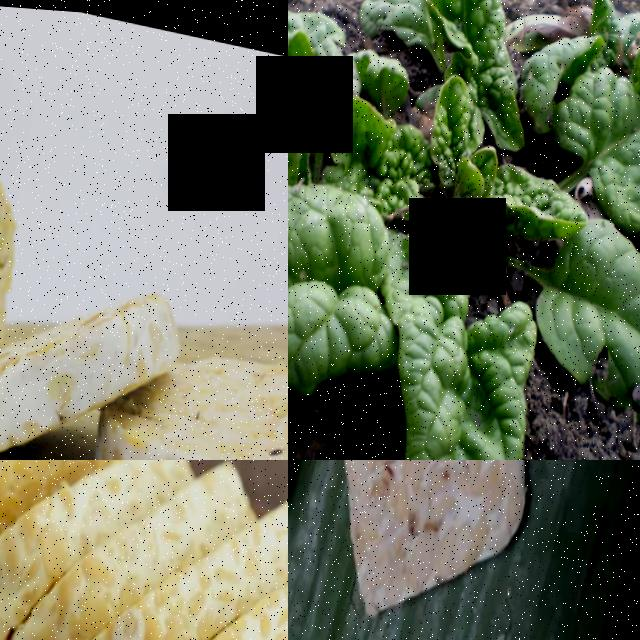spinach: (384, 284, 549, 460), (288, 166, 404, 393), (543, 205, 640, 393), (555, 57, 640, 225), (420, 0, 519, 49)
tempeh: (0, 460, 288, 640), (328, 460, 542, 631), (133, 323, 288, 460)
